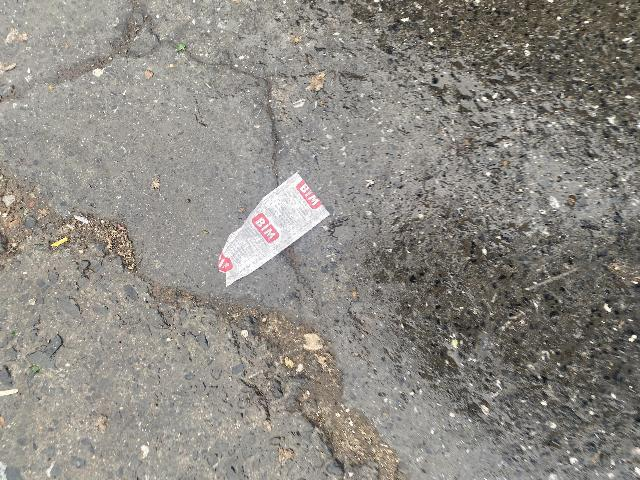Kagit: (206, 173, 338, 286)
